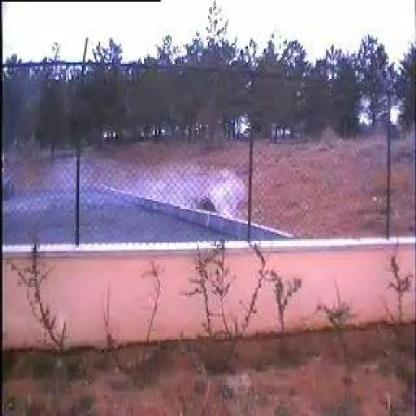-: (44, 146, 244, 242)
